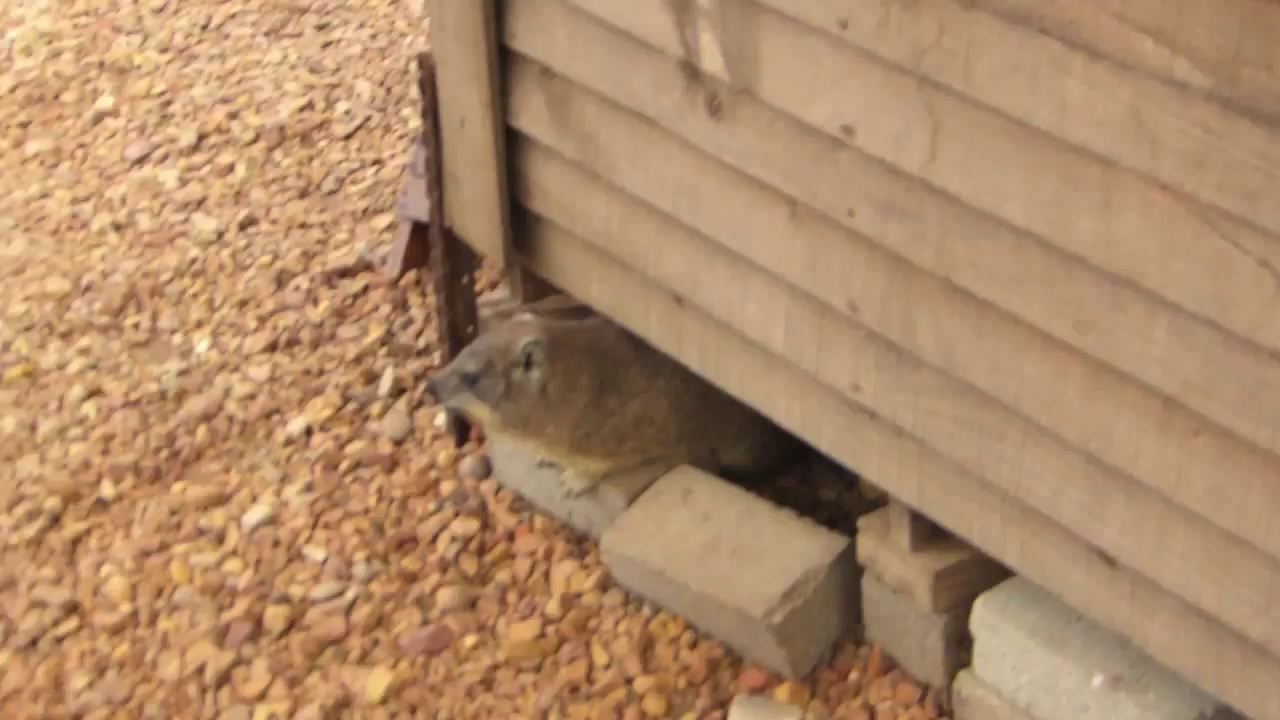Rock Hyrex: (423, 306, 787, 484)
